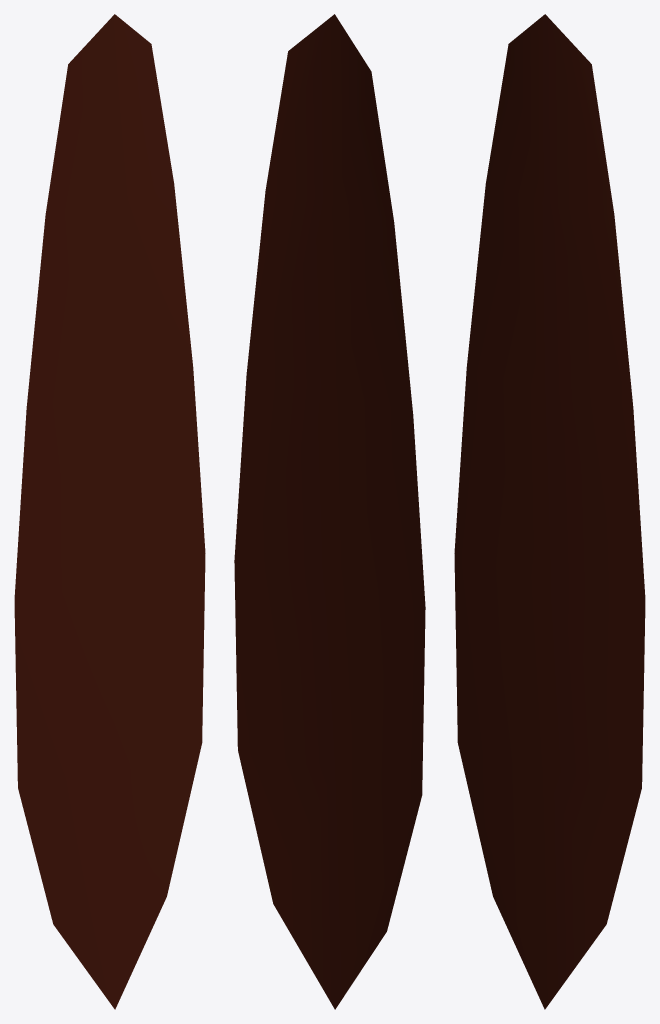
The model's file is pheasant_feather_flight_secondary_006.obj.
The picture shows the model from 3 angles, left to right: view 1: azimuth 30°, elevation 25°; view 2: azimuth 150°, elevation 25°; view 3: azimuth 330°, elevation 25°; orthographic projection.
Visible parts, largest first — view 1: feather_flight_secondary_006; view 2: feather_flight_secondary_006; view 3: feather_flight_secondary_006.
Boxes of the visible parts, left/top/right/bottom form: feather_flight_secondary_006: left=14, top=14, right=205, bottom=1009; feather_flight_secondary_006: left=234, top=14, right=425, bottom=1009; feather_flight_secondary_006: left=454, top=14, right=645, bottom=1009.
Bounding box in the file's own units: 0.0141 × 0.0702 × 0.000676.
